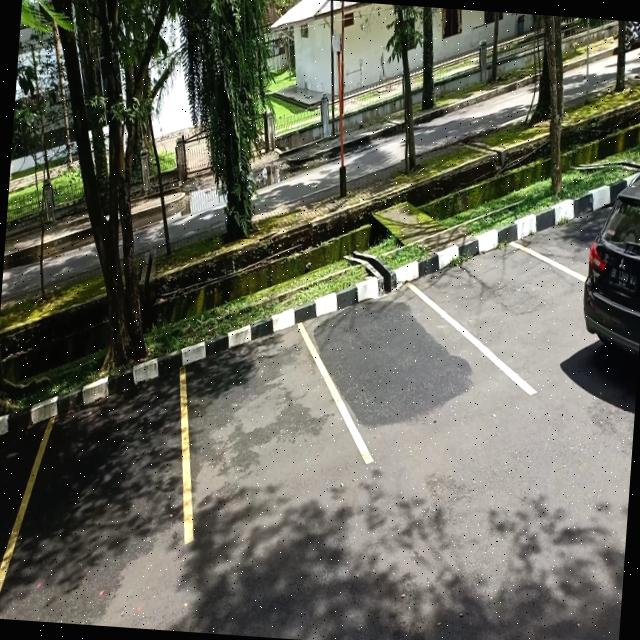empty: (11, 380, 191, 612), (176, 314, 336, 546), (302, 278, 463, 472), (446, 234, 584, 394)
